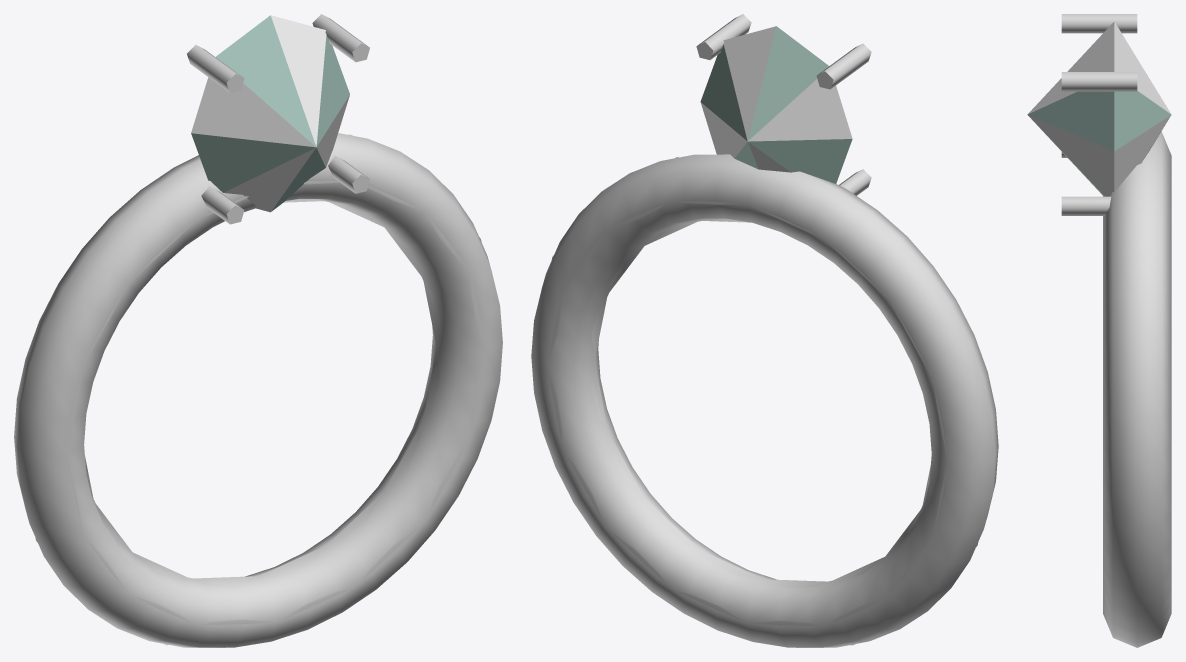
Rendered from inspect_ring.glb.
3 renders of one model, left to right at view 1: azimuth 30°, elevation 25°; view 2: azimuth 150°, elevation 25°; view 3: azimuth 270°, elevation 25°, orthographic. The views are drawn at different scales.
Parts seen in each view (by area): view 1: inspect_ring-0, inspect_ring-1, inspect_ring_lod-0; view 2: inspect_ring-0, inspect_ring-1, inspect_ring_lod-0; view 3: inspect_ring-0, inspect_ring-1.
Part boxes in pixels (x1,y1,x2,y2): inspect_ring-0: [14, 14, 502, 647]; inspect_ring-1: [191, 15, 349, 212]; inspect_ring_lod-0: [35, 134, 485, 645]; inspect_ring-0: [531, 14, 998, 647]; inspect_ring-1: [700, 26, 852, 183]; inspect_ring_lod-0: [547, 157, 978, 645]; inspect_ring-0: [1061, 14, 1171, 647]; inspect_ring-1: [1027, 21, 1171, 196].
Bounding box in the file's own units: 0.023 × 0.029 × 0.0063.
